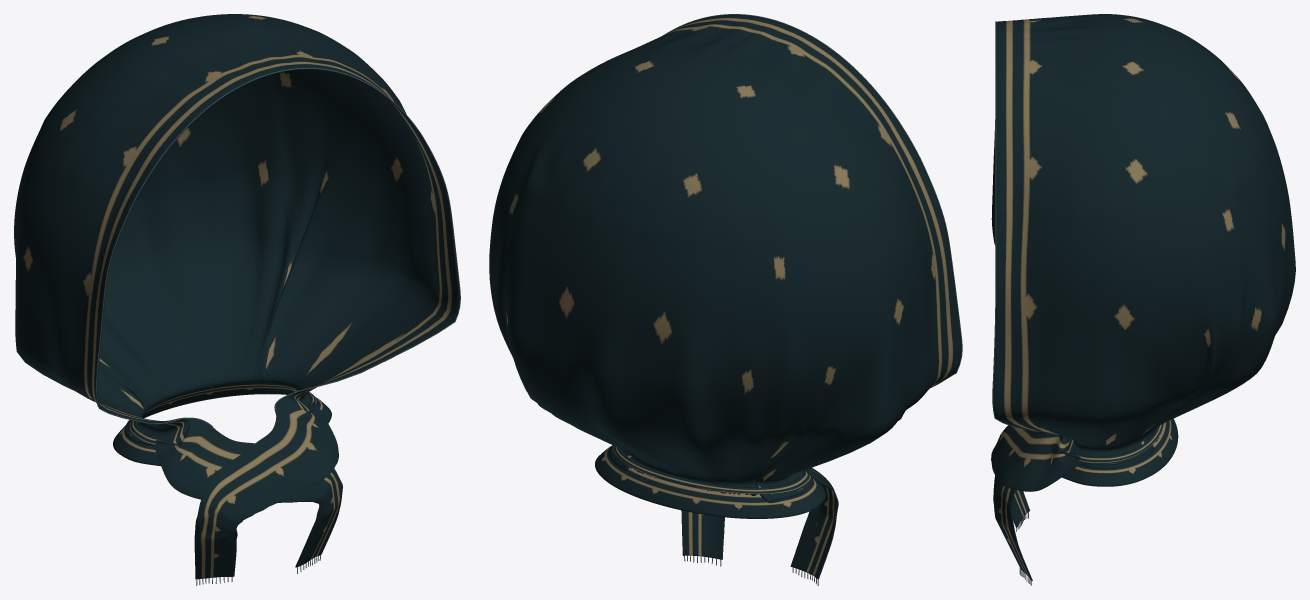
File: Feminine-bandeau-pashmina239-headgear.glb
The picture shows the model from 3 angles, left to right: view 1: azimuth 30°, elevation 25°; view 2: azimuth 150°, elevation 25°; view 3: azimuth 270°, elevation 25°; orthographic projection. The views are drawn at different scales.
Parts seen in each view (by area): view 1: 226 headgear / Headwear / continuous woven pashmina239, 226 headgear / Headwear / face edge239; view 2: 226 headgear / Headwear / continuous woven pashmina239, 226 headgear / Headwear / face edge239; view 3: 226 headgear / Headwear / continuous woven pashmina239, 226 headgear / Headwear / face edge239.
Part boxes in pixels (bbox=[...]): 226 headgear / Headwear / continuous woven pashmina239: bbox=[14, 14, 459, 579]; 226 headgear / Headwear / face edge239: bbox=[95, 68, 460, 426]; 226 headgear / Headwear / continuous woven pashmina239: bbox=[489, 14, 961, 579]; 226 headgear / Headwear / face edge239: bbox=[664, 14, 962, 387]; 226 headgear / Headwear / continuous woven pashmina239: bbox=[991, 14, 1295, 580]; 226 headgear / Headwear / face edge239: bbox=[992, 21, 1043, 431].
Bounding box in the file's own units: 1.02 × 1.35 × 0.7135.
3 materials, 1 textured.
